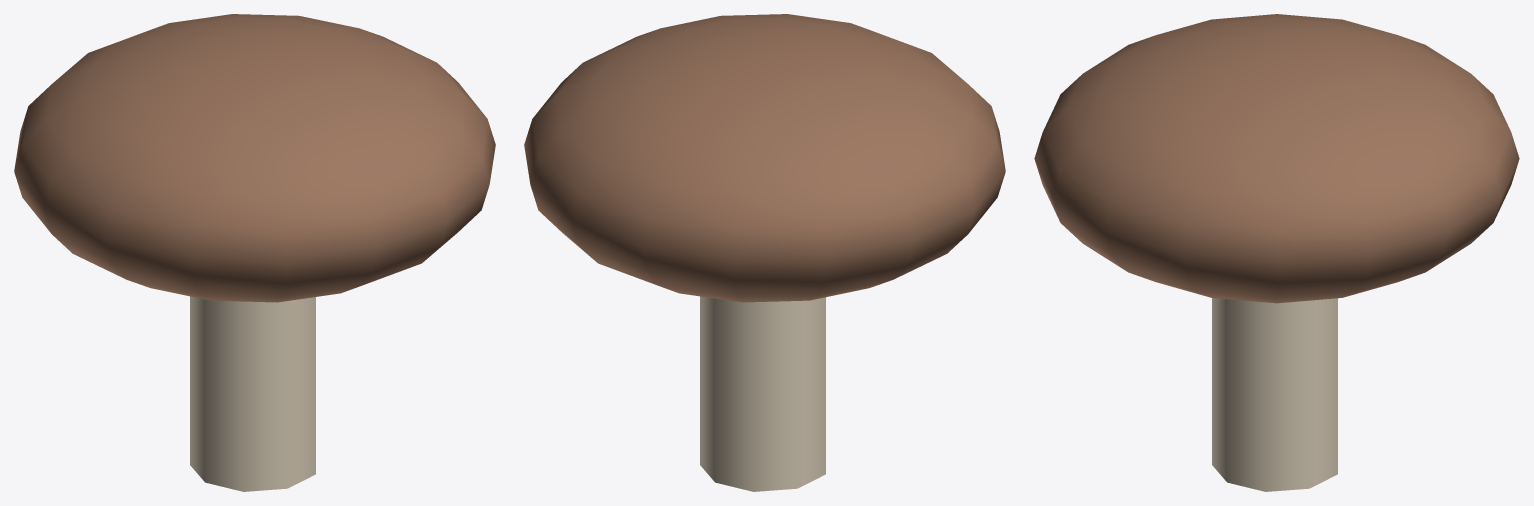
The model's file is mushroom.glb.
The picture shows the model from 3 angles, left to right: view 1: azimuth 30°, elevation 25°; view 2: azimuth 150°, elevation 25°; view 3: azimuth 270°, elevation 25°; orthographic projection.
Parts seen in each view (by area): view 1: Cap, Stem; view 2: Cap, Stem; view 3: Cap, Stem.
Part boxes in pixels (x1,y1,x2,y2): Cap: (14, 14, 495, 302); Stem: (190, 296, 315, 491); Cap: (524, 14, 1005, 302); Stem: (700, 296, 825, 491); Cap: (1034, 14, 1519, 303); Stem: (1212, 298, 1337, 491).
Size of the model in its own units: 0.56 by 0.52 by 0.56.
